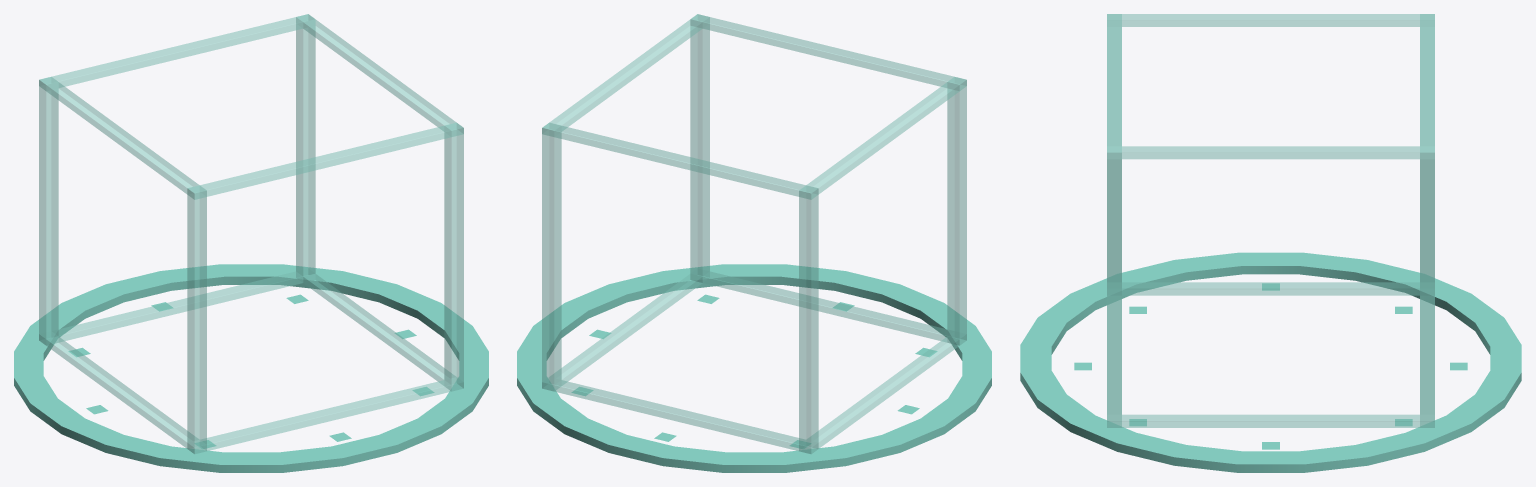
Rendered from CM_Tycoon_UpgradePreview.fbx.
3 renders of one model, left to right at view 1: azimuth 30°, elevation 25°; view 2: azimuth 150°, elevation 25°; view 3: azimuth 270°, elevation 25°, orthographic. The views are drawn at different scales.
Visible parts, largest first — view 1: Hologram, Body; view 2: Hologram, Body; view 3: Body, Hologram.
Part boxes in pixels (<box>): Hologram: <box>39,14,463,453</box>; Body: <box>14,264,488,472</box>; Hologram: <box>542,14,966,453</box>; Body: <box>517,264,991,472</box>; Body: <box>1020,252,1521,472</box>; Hologram: <box>1107,14,1434,427</box>.
Bounding box in the file's own units: 8 × 8 × 5.
Materials: 2 (2 with a texture image).
